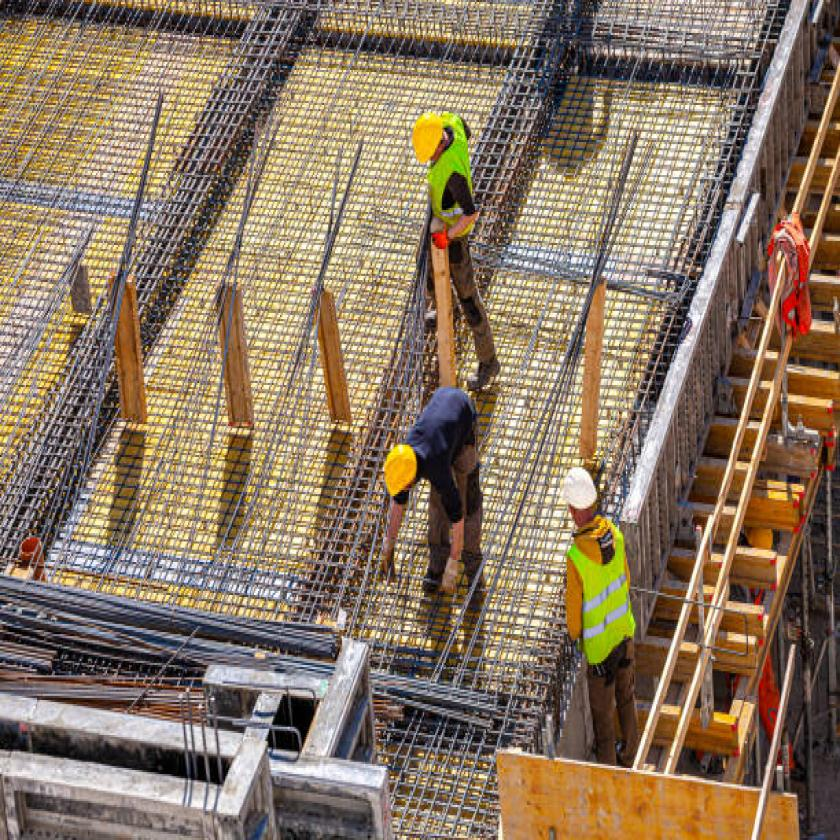Con_casco: (414, 90, 451, 171), (562, 466, 602, 536)
